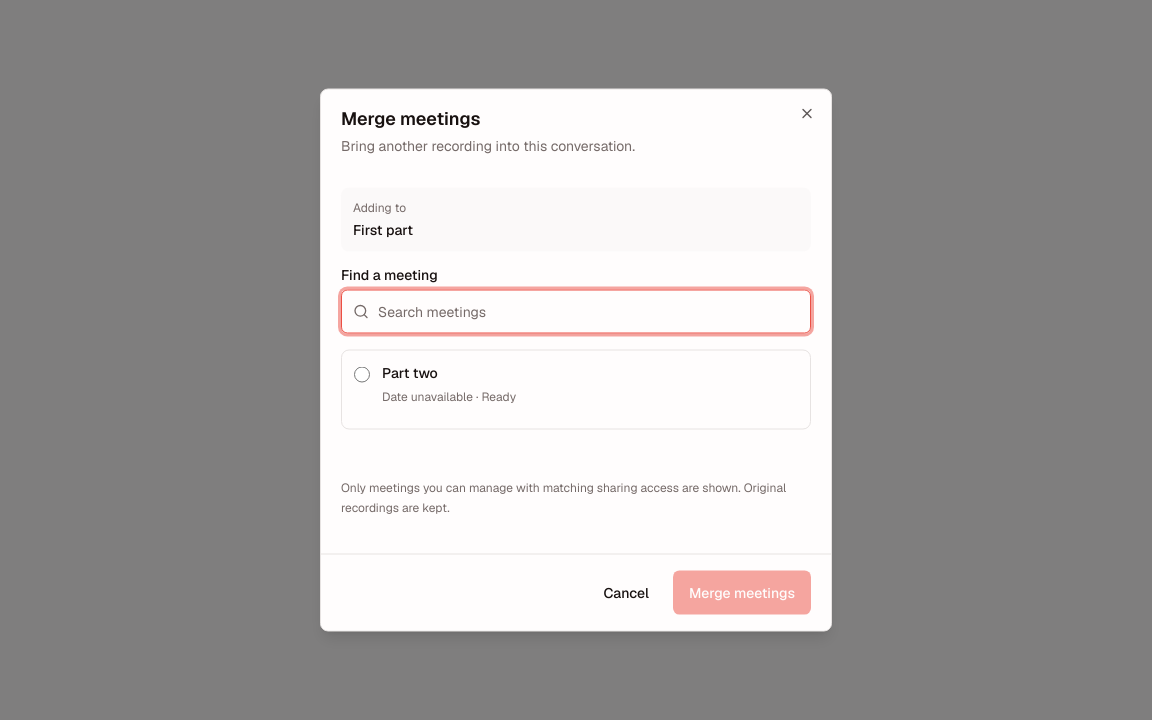
it: Merge meetings › retains selection and explains a rejected merge
Click the radio button: (362, 374) [354,366,370,382]
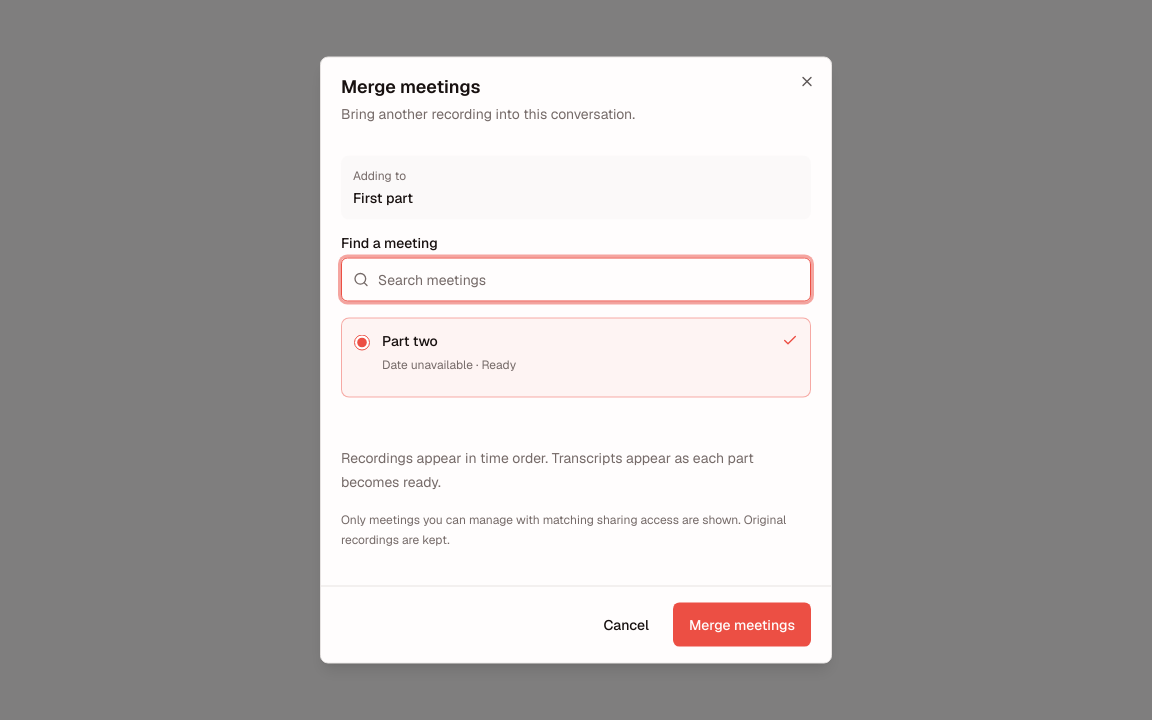
Click the button "Merge meetings": (742, 624) [673,602,811,646]
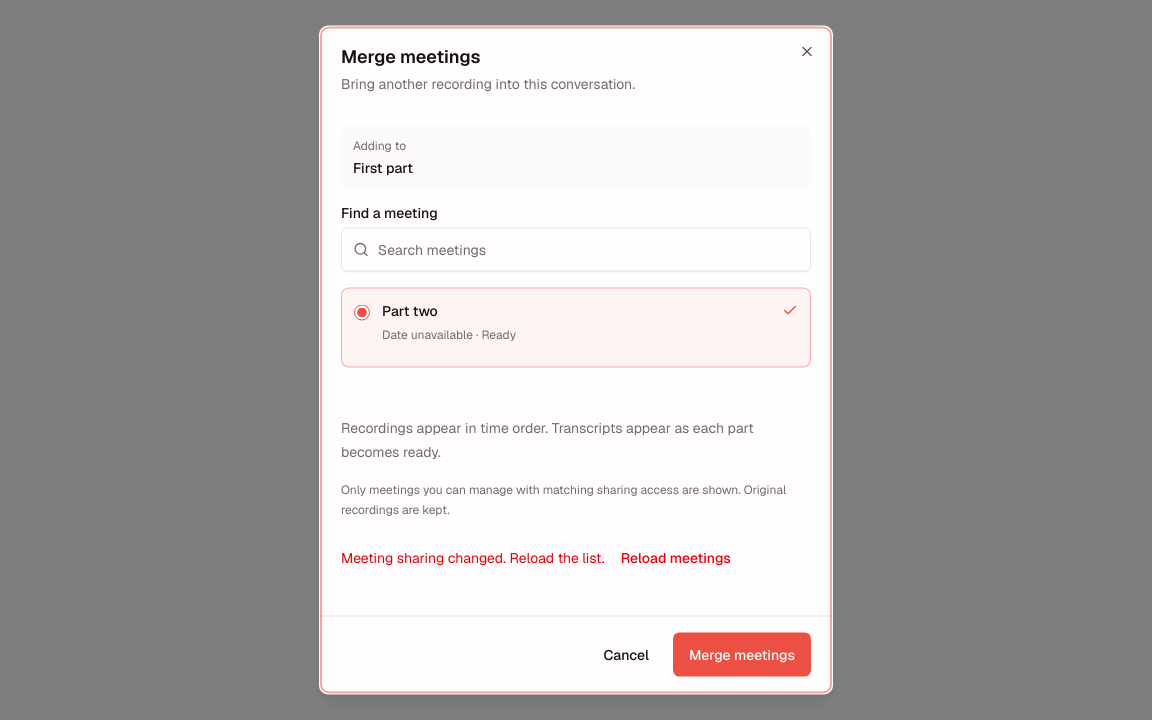
Now the radio button is checked, box [354,304,370,320]
Now the message shows "Meeting sharing changed", box [341,548,605,566]
